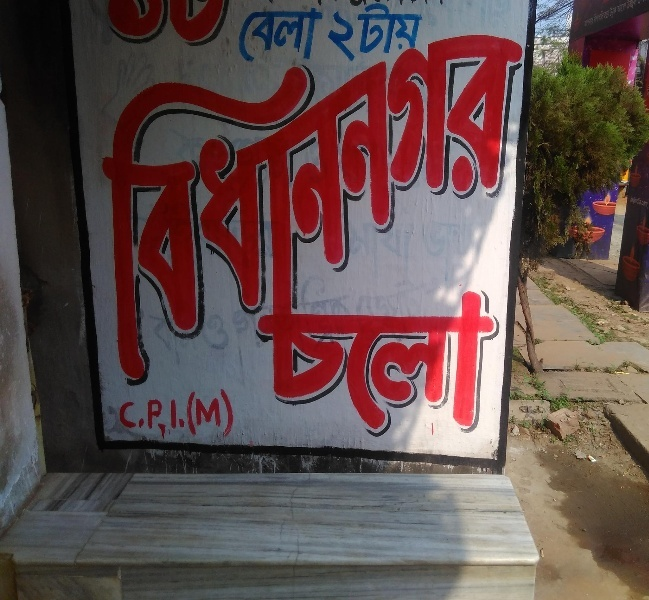text: (81, 14, 96, 411), (97, 14, 112, 411), (113, 14, 128, 411), (129, 14, 144, 411), (145, 14, 160, 411), (161, 14, 176, 411), (177, 14, 192, 411), (193, 14, 208, 411), (209, 14, 224, 411), (225, 14, 240, 411), (241, 14, 256, 411), (257, 14, 272, 411), (273, 14, 288, 411), (289, 14, 304, 411), (305, 14, 320, 411), (321, 14, 336, 411), (337, 14, 352, 411), (353, 14, 368, 411), (369, 14, 384, 411), (385, 14, 400, 411), (401, 14, 416, 411), (417, 14, 432, 411), (433, 14, 448, 411), (449, 14, 464, 411), (465, 14, 480, 411), (481, 14, 496, 411), (497, 14, 512, 411), (513, 14, 528, 411), (73, 14, 80, 411), (529, 14, 536, 411), (257, 288, 272, 449), (273, 288, 288, 449), (289, 288, 304, 449), (305, 288, 320, 449), (321, 288, 336, 449), (337, 288, 352, 449), (353, 288, 368, 449), (369, 288, 384, 449), (385, 288, 400, 449), (401, 288, 416, 449), (417, 288, 432, 449), (433, 288, 448, 449), (449, 288, 464, 449), (465, 288, 480, 449), (481, 288, 496, 449), (247, 288, 256, 449), (497, 288, 504, 449), (337, 1, 352, 68), (353, 1, 368, 68), (369, 1, 384, 68), (385, 1, 400, 68), (401, 1, 416, 68), (417, 1, 432, 68), (129, 384, 144, 448), (145, 384, 160, 448), (161, 384, 176, 448), (177, 384, 192, 448), (193, 384, 208, 448), (209, 384, 224, 448), (225, 384, 240, 448), (241, 6, 256, 66), (257, 6, 272, 66), (273, 6, 288, 66), (289, 6, 304, 66), (305, 6, 320, 66), (113, 1, 128, 50), (129, 1, 144, 50), (145, 1, 160, 50), (161, 1, 176, 50), (177, 1, 192, 50), (193, 1, 208, 50), (209, 1, 224, 50), (229, 6, 240, 66), (327, 1, 336, 68), (321, 6, 331, 66), (120, 384, 128, 448), (593, 1, 608, 30), (609, 1, 624, 30), (625, 1, 640, 30), (104, 1, 112, 50), (241, 384, 246, 448), (581, 1, 592, 30), (225, 1, 231, 50), (433, 1, 437, 68), (641, 1, 649, 30), (630, 195, 640, 209), (641, 195, 649, 209), (289, 1, 304, 7), (305, 1, 320, 7), (321, 1, 336, 7), (337, 1, 352, 7), (353, 1, 368, 7), (369, 1, 384, 7), (385, 1, 400, 7), (401, 1, 416, 7), (417, 1, 432, 7), (433, 1, 448, 7), (449, 1, 450, 7)
